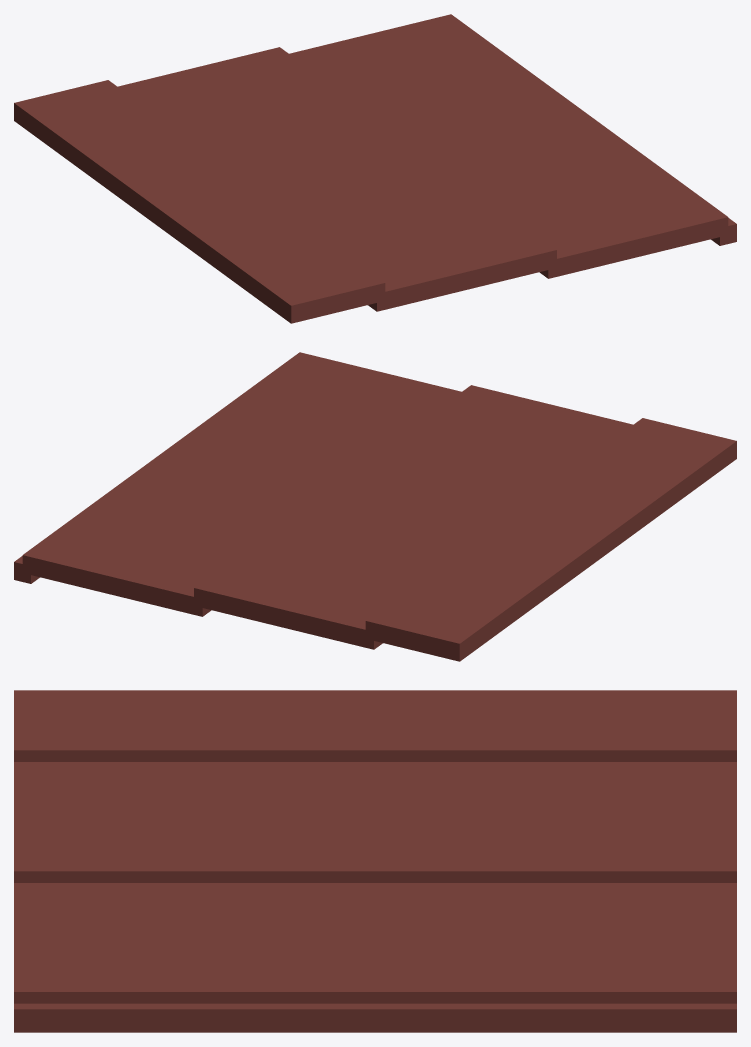
The model's file is luxury_saloon_bonnet.glb.
The picture shows the model from 3 angles, top to bottom: view 1: azimuth 30°, elevation 25°; view 2: azimuth 150°, elevation 25°; view 3: azimuth 270°, elevation 25°; orthographic projection. The views are drawn at different scales.
Visible parts, largest first — view 1: body:compound; view 2: body:compound; view 3: body:compound.
Boxes of the visible parts, x1,y1,x2,y2 form: body:compound: (14,14,736,323); body:compound: (14,352,736,661); body:compound: (14,690,736,1032).
Bounding box in the file's own units: 1.62 × 0.1562 × 1.75.
